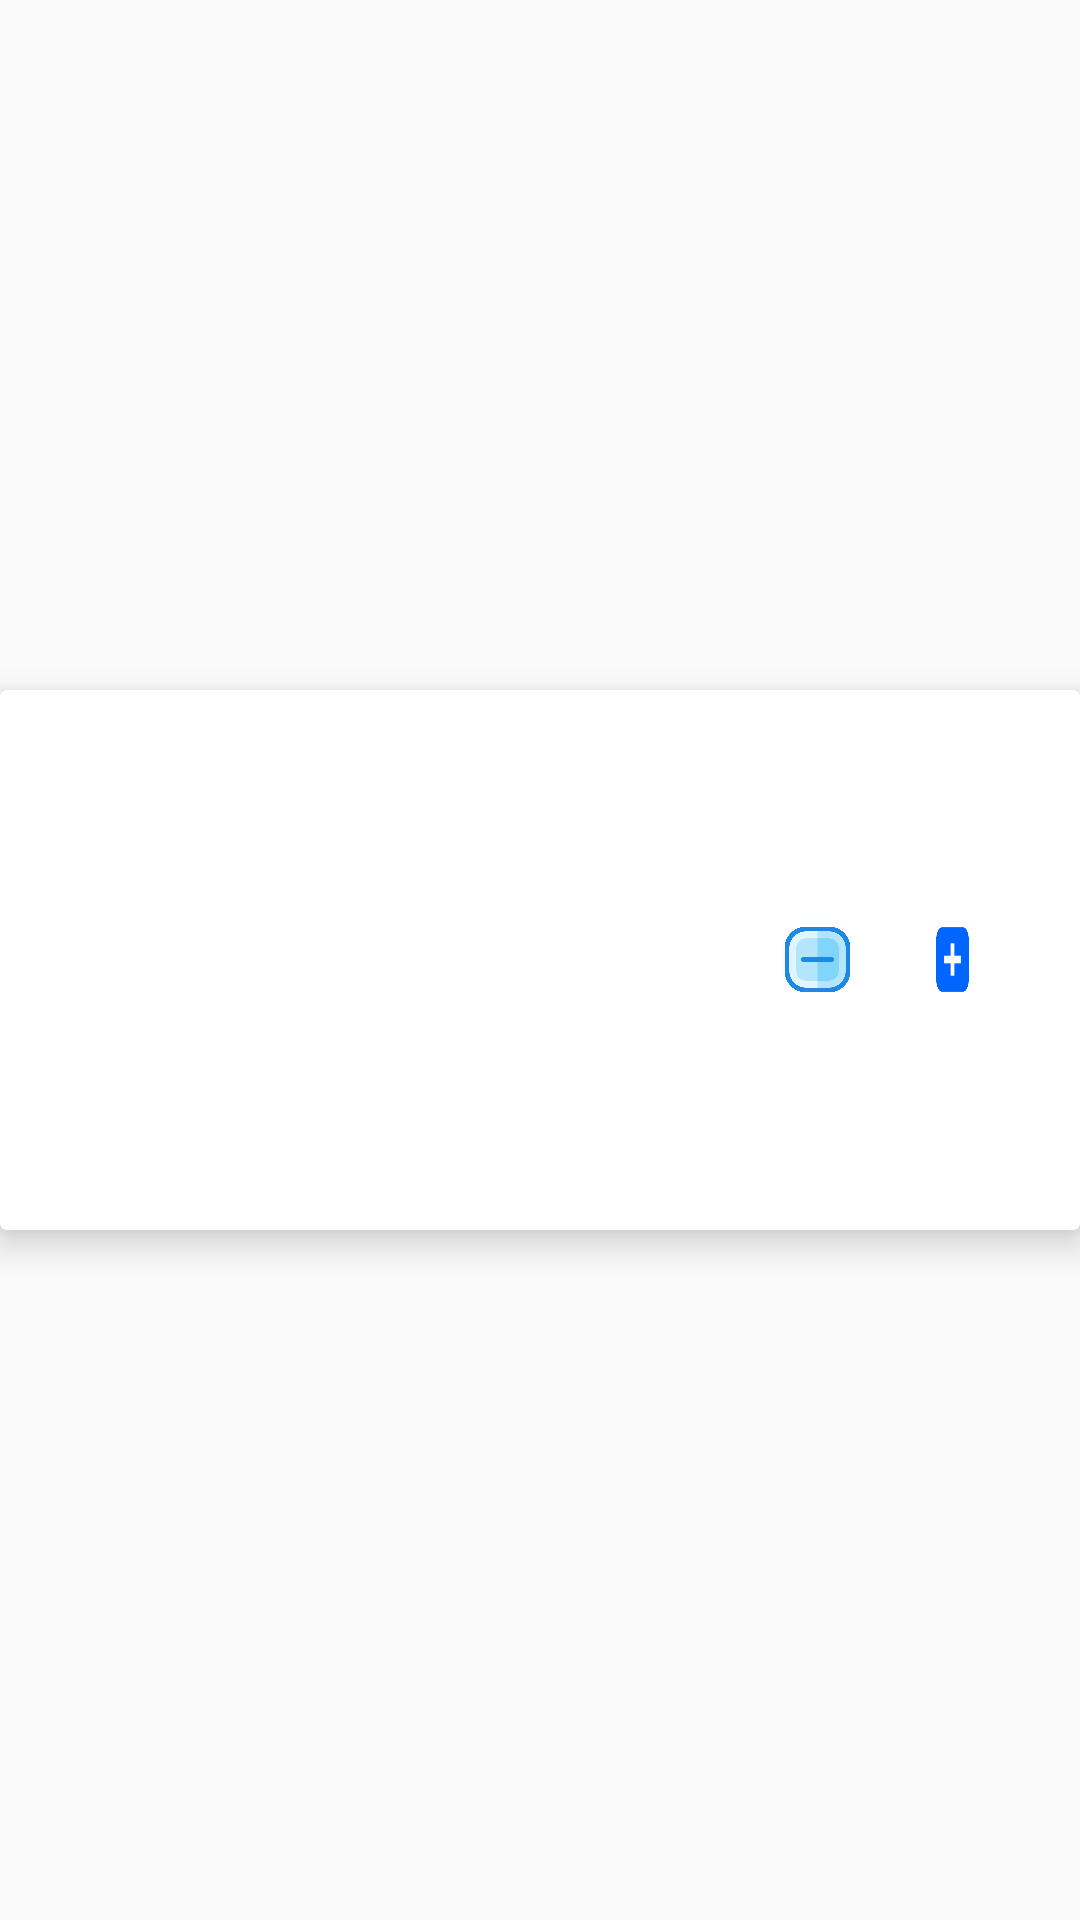

Locate icon controls on the screen. Image size 1080 × 1920, boxes as (x1, y1, x2, y2).
add sign: (936, 927, 969, 992)
